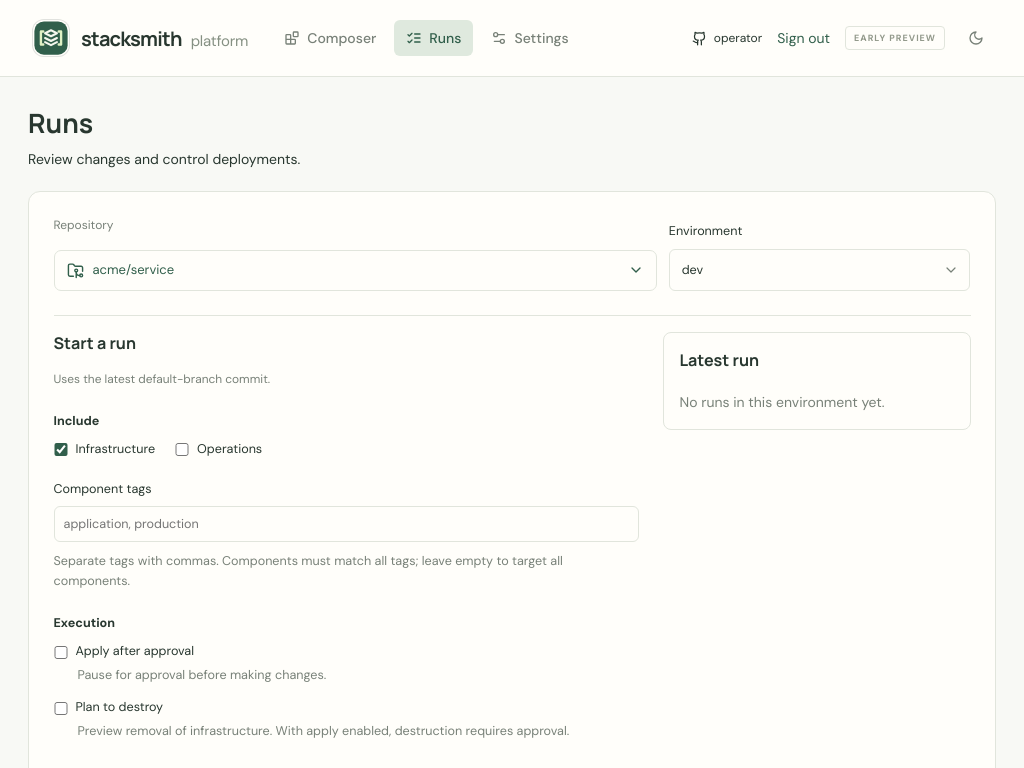
Scenario: ignores discovery results for an old target and retries background failures
This screenshot has width=1024, height=768.
Select "prod" in the dropdown labelled "Environment" at (820, 270), box [669,249,970,291]
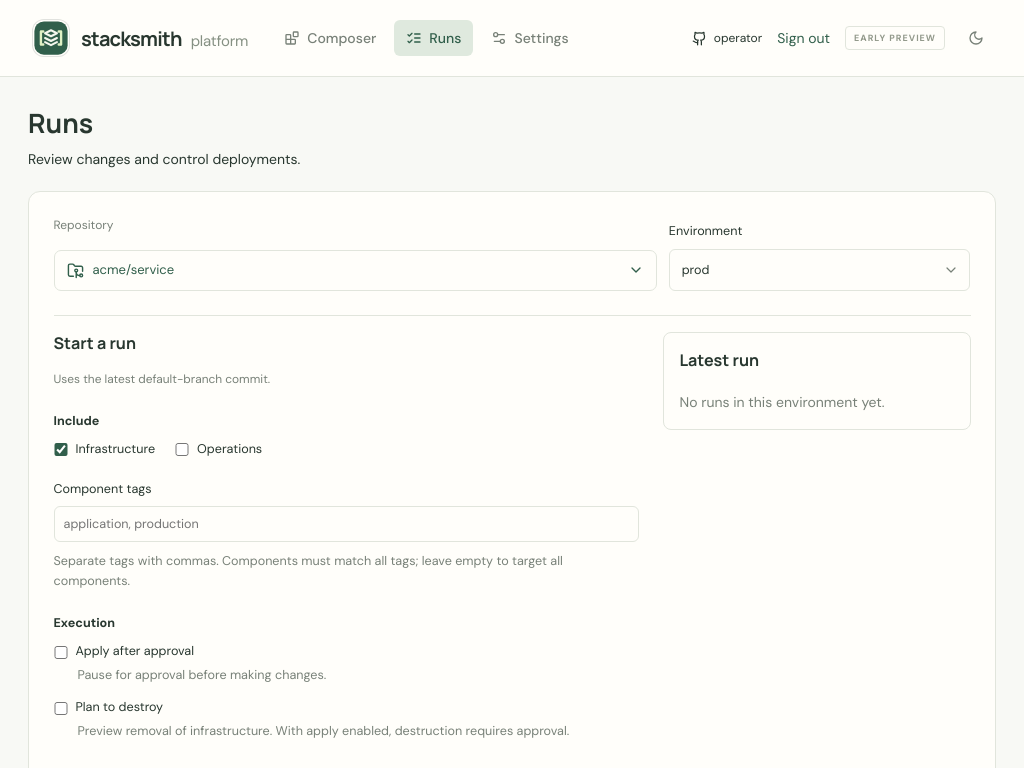
Click the checkbox named "include_operations" at (182, 450), box [175,443,189,456]
(page scrolled)
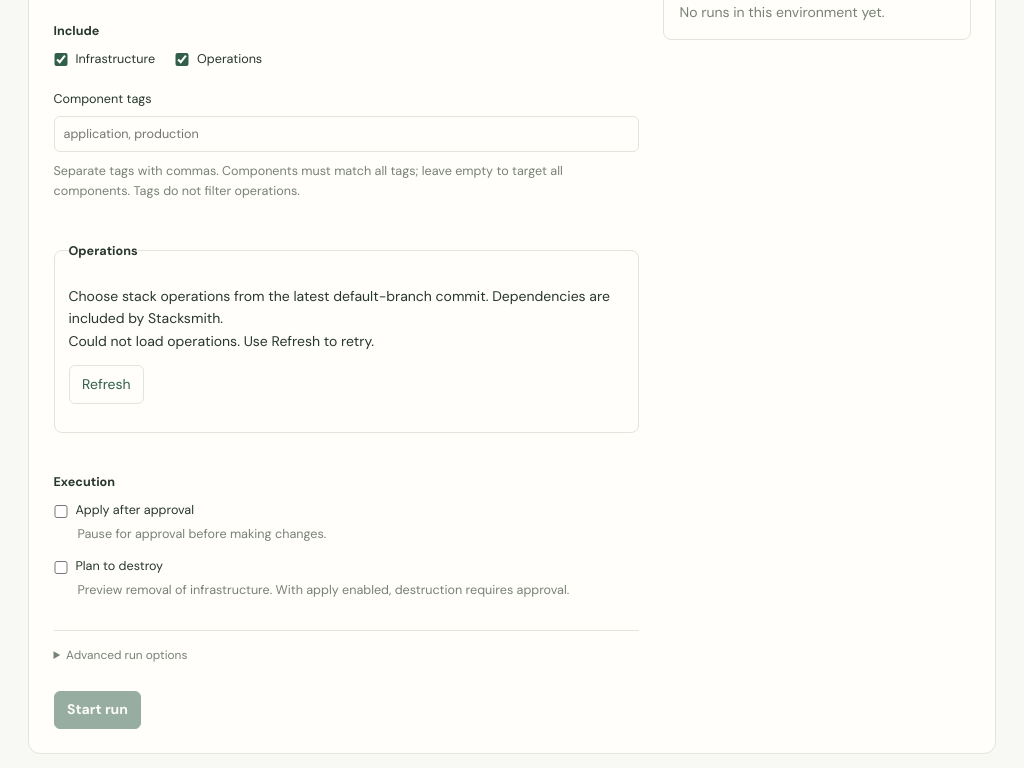
Result: the text "Could not load operations" is shown at [68,332,374,350]
Result: the button with class "run-start-button" is disabled at [54,690,142,729]
Result: the button "Refresh" is shown
Click the button "Refresh" at (106, 384), box [68,365,144,404]
(page scrolled)
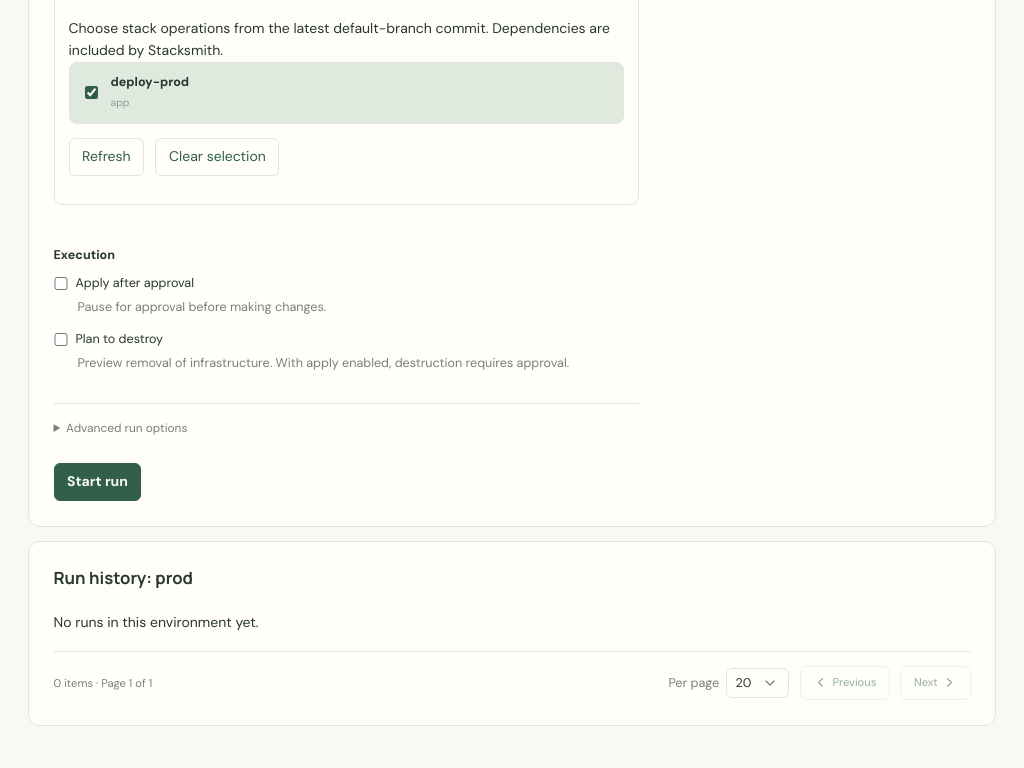
Result: the text "deploy-prod" is shown at [110,74,189,90]
Result: the button with class "run-start-button" is enabled at [54,463,142,501]
